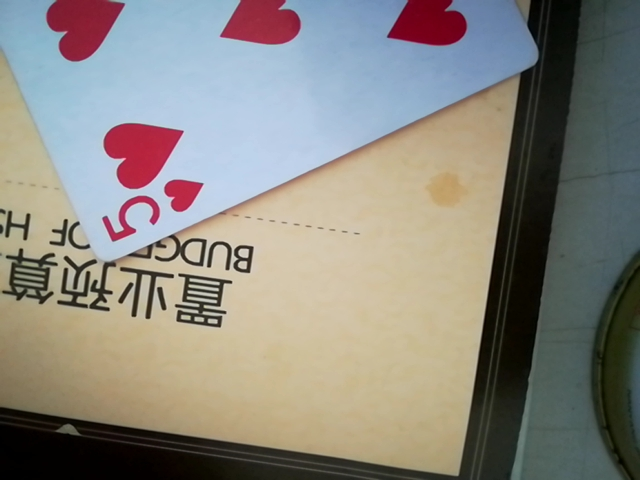hx 5: (4, 0, 551, 256)
